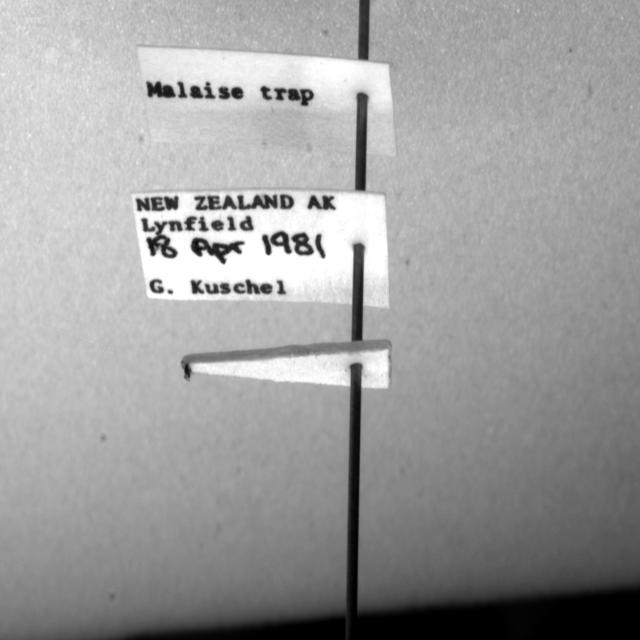mixed_label: (132, 189, 389, 308)
typed_label: (138, 45, 396, 156)
